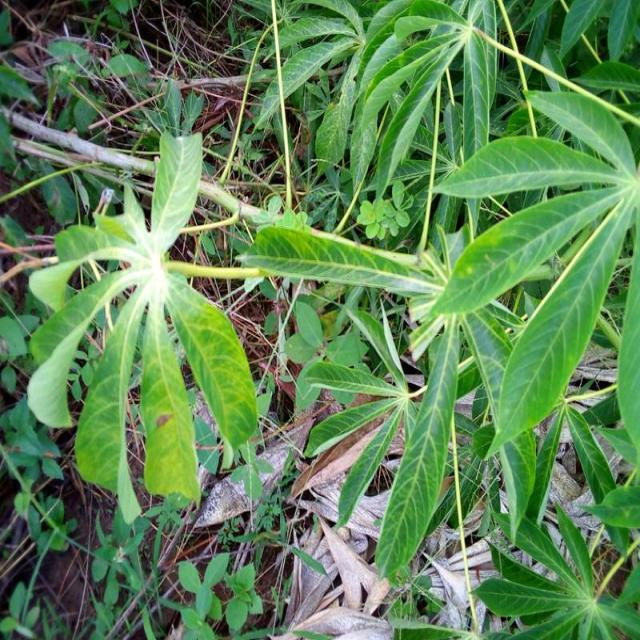cassava leaf: (27, 128, 262, 523)
